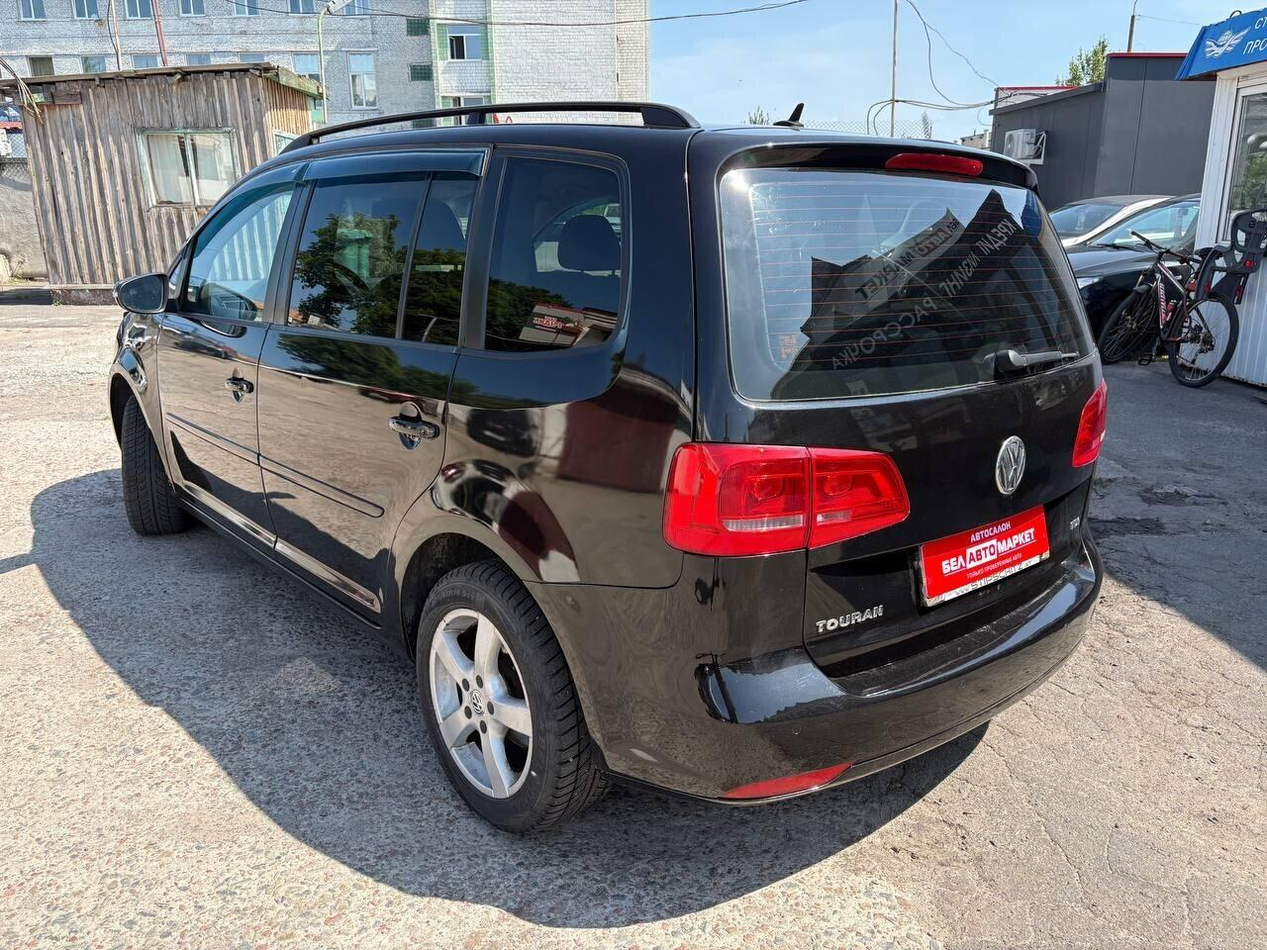Touran_2010-2015: (101, 113, 1115, 835)
